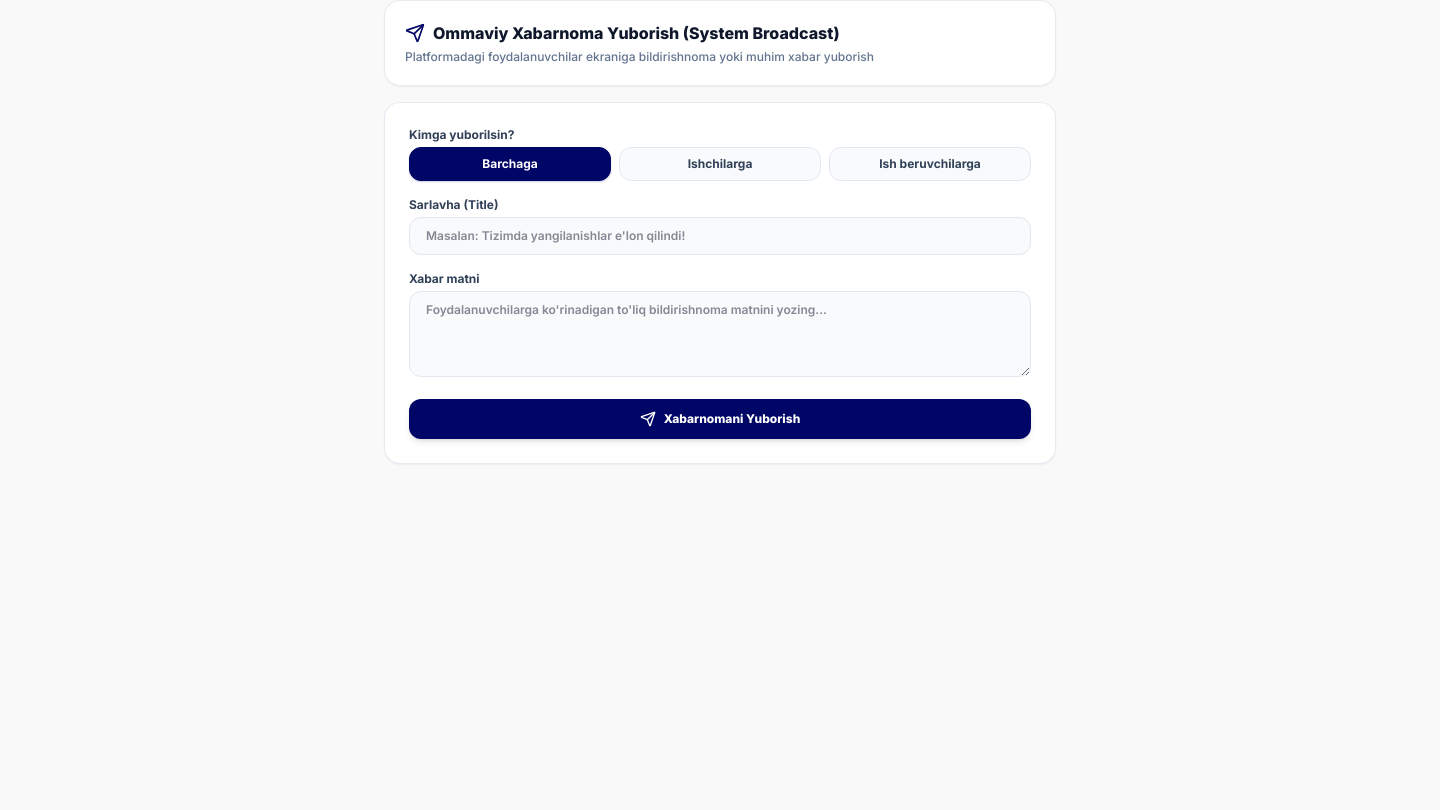
AdminBroadcast — messaging every user on the platform › says who will receive it before sending
The width and height of the screenshot is (1440, 810).
Type "Muhim xabar" into the field at {"x": 720, "y": 236}, box [409,217,1031,255]
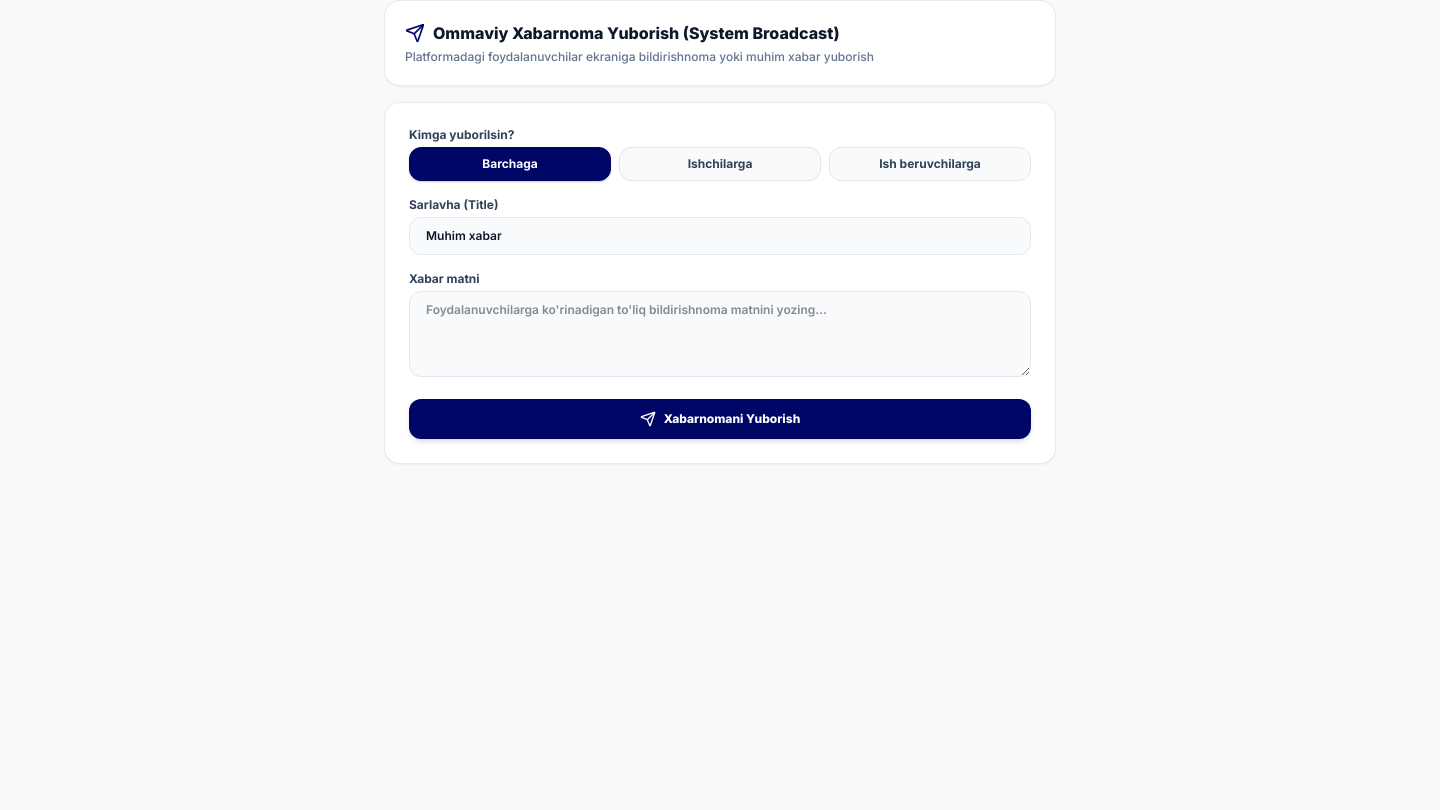
Replace the text in the text box with "Barchaga xabar matni" at {"x": 720, "y": 334}, box [409,291,1031,377]
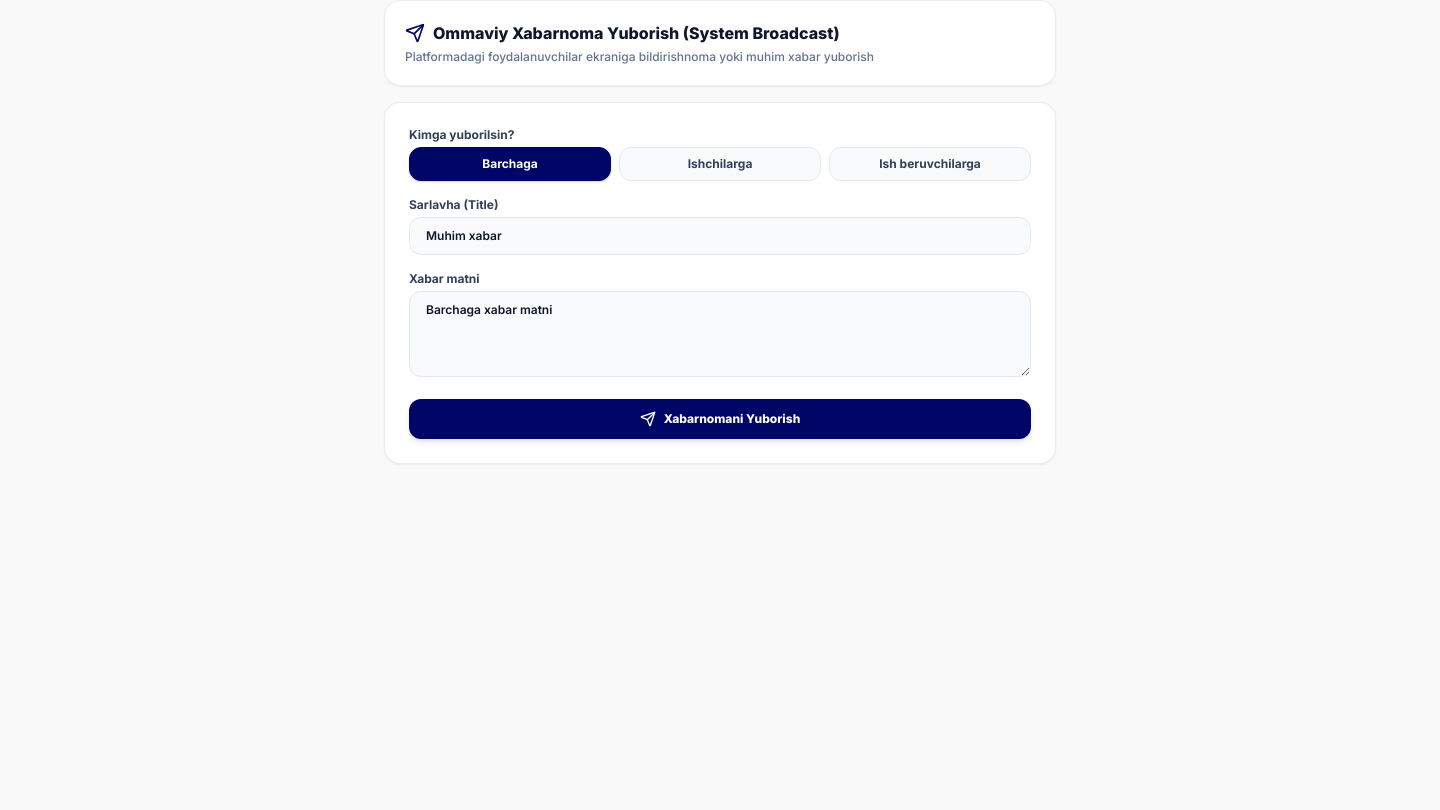
Click the button "Xabarnomani Yuborish" at {"x": 720, "y": 419}, box [409,399,1031,439]
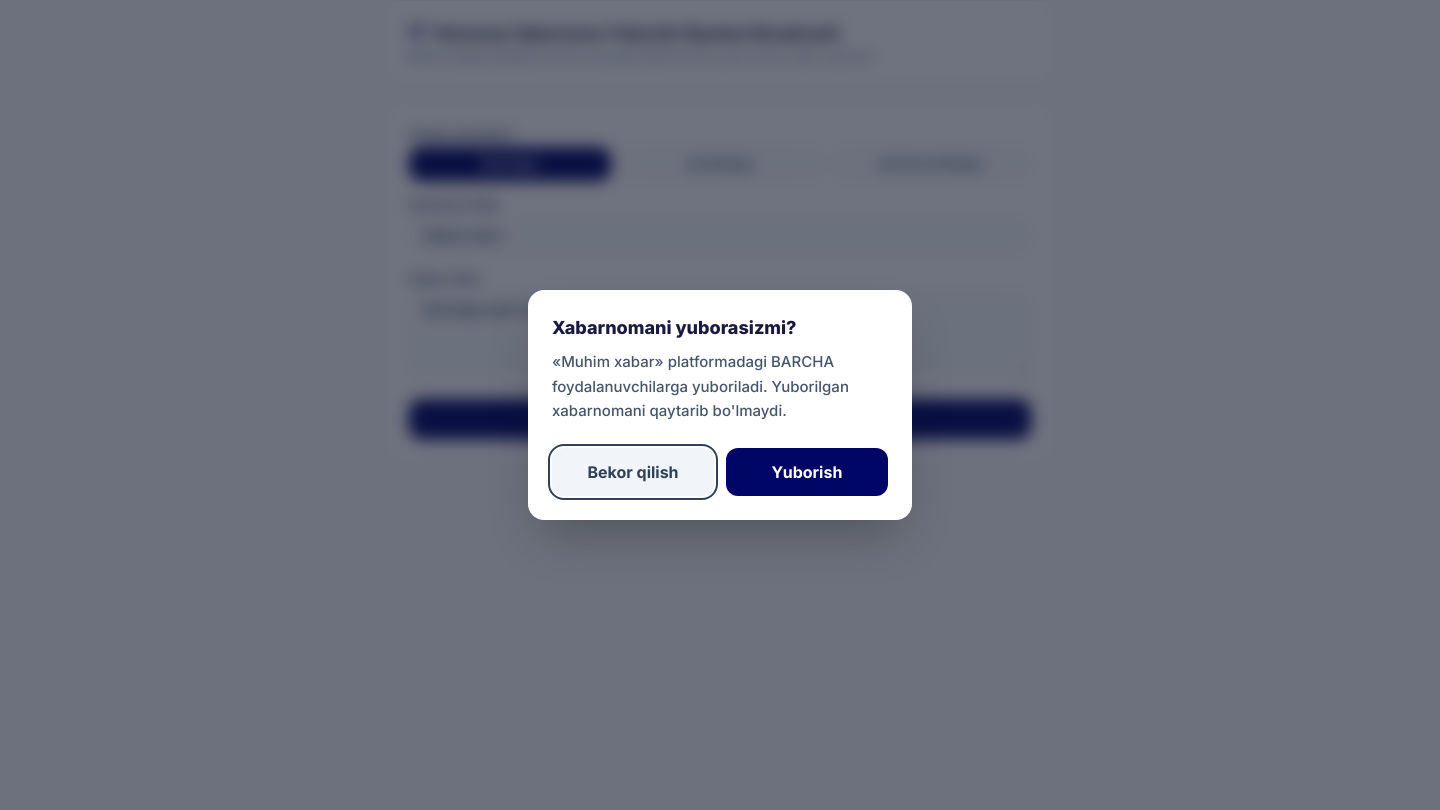
Check: the dialog is shown
